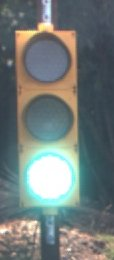Green: (9, 18, 90, 218)
